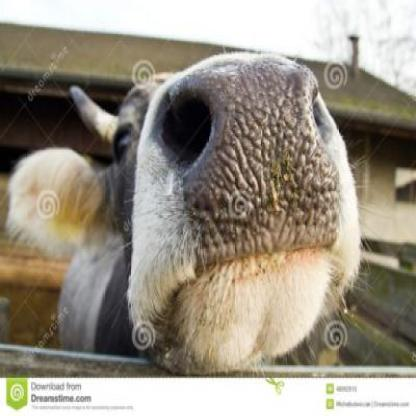lower: (253, 268, 290, 314)
mouth: (135, 52, 363, 374)
upper: (237, 76, 285, 162)
